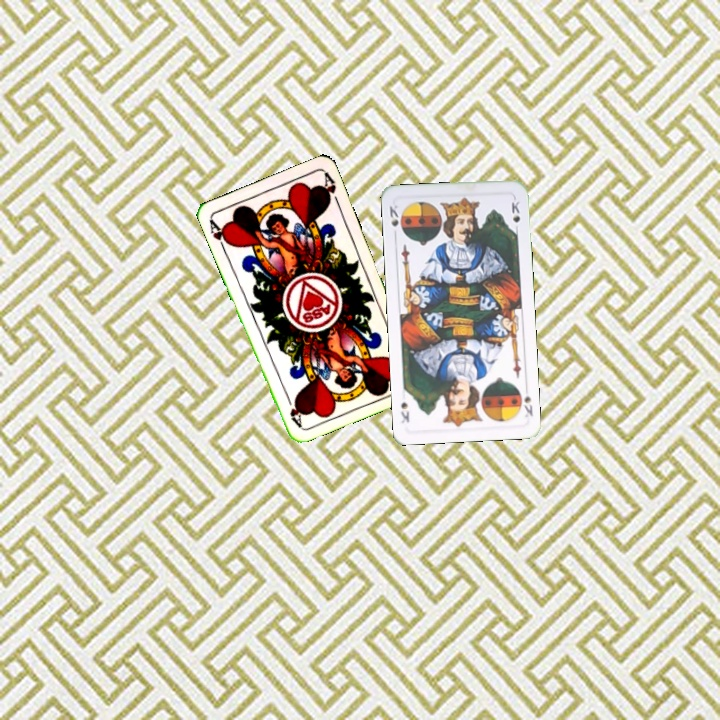HA: (205, 216, 233, 254)
SK: (515, 385, 536, 420), (385, 200, 401, 229)
